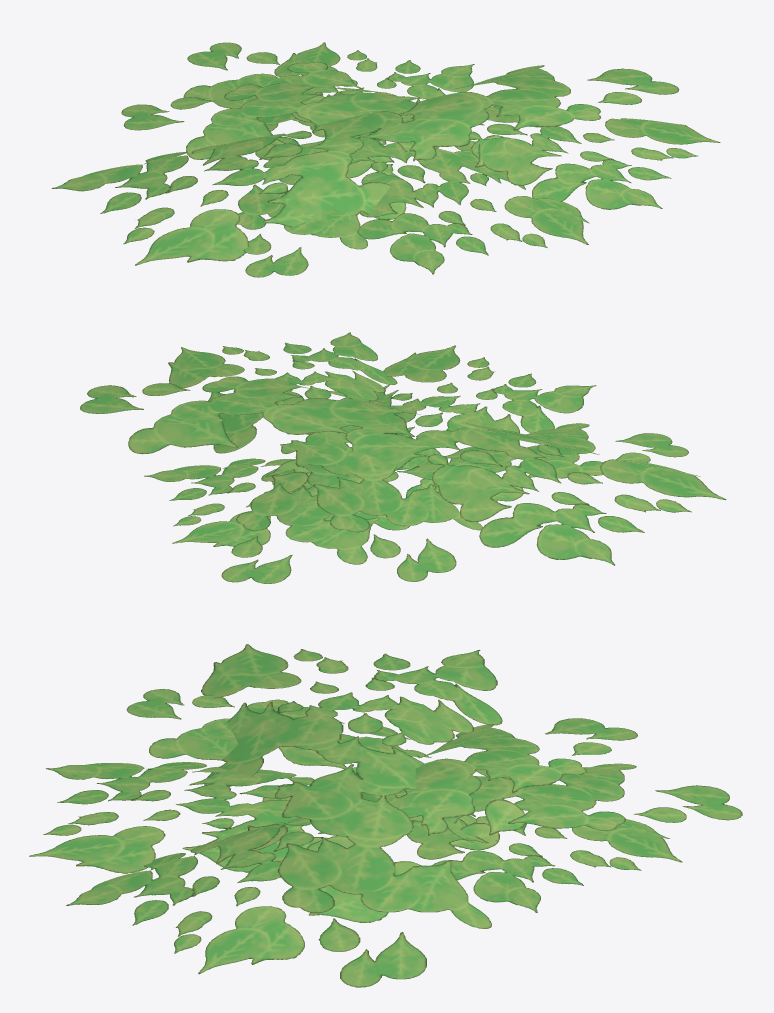
Rendered from LeafSetG_18.fbx.
3 views of the same model, one above another, from view 1: azimuth 30°, elevation 25°; view 2: azimuth 150°, elevation 25°; view 3: azimuth 270°, elevation 25° (orthographic). The views are drawn at different scales.
Visible parts, largest first — view 1: LeafSetG_18; view 2: LeafSetG_18; view 3: LeafSetG_18.
Part boxes in pixels (x1,y1,x2,y2): LeafSetG_18: [51, 42, 720, 277]; LeafSetG_18: [80, 332, 726, 583]; LeafSetG_18: [29, 644, 742, 987].
Bounding box in the file's own units: 1.51 × 0.0752 × 1.33.
